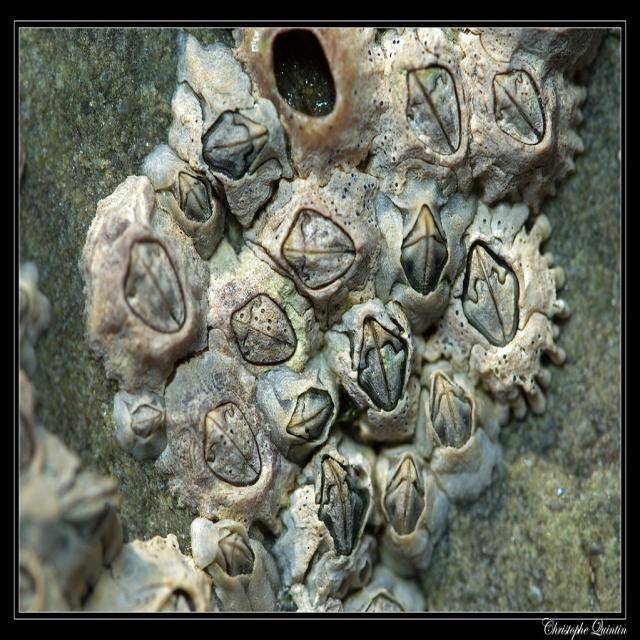barnacles: (80, 202, 208, 376), (458, 211, 567, 406), (465, 41, 583, 208), (372, 29, 466, 185), (325, 304, 421, 451), (174, 368, 268, 518), (180, 52, 285, 176), (207, 257, 318, 374), (270, 186, 375, 305), (284, 445, 371, 585), (417, 366, 502, 495), (379, 186, 464, 314), (378, 452, 452, 576), (258, 362, 338, 459), (195, 512, 274, 601), (109, 388, 169, 460), (172, 157, 220, 240)
